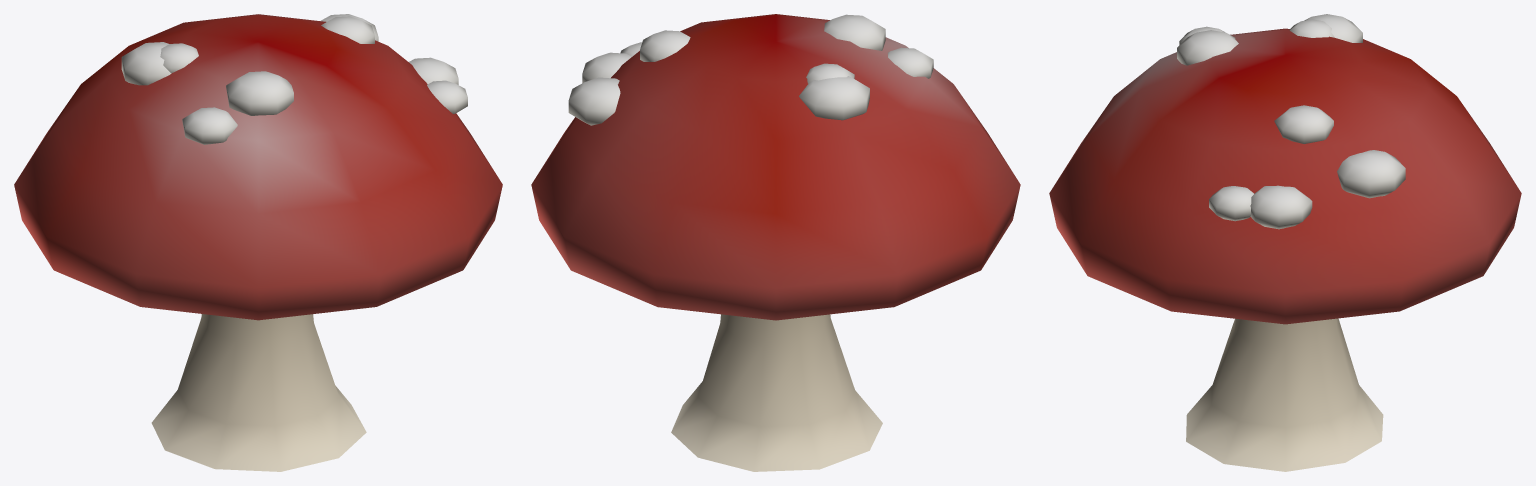
The model's file is food_mush_a.fbx.
The picture shows the model from 3 angles, left to right: view 1: azimuth 30°, elevation 25°; view 2: azimuth 150°, elevation 25°; view 3: azimuth 270°, elevation 25°; orthographic projection. The views are drawn at different scales.
Parts seen in each view (by area): view 1: food_mush_a; view 2: food_mush_a; view 3: food_mush_a.
Boxes of the visible parts, x1,y1,x2,y2 form: food_mush_a: (14, 14, 502, 471); food_mush_a: (531, 14, 1020, 471); food_mush_a: (1049, 14, 1521, 471).
Size of the model in its own units: 124 by 109 by 124.
